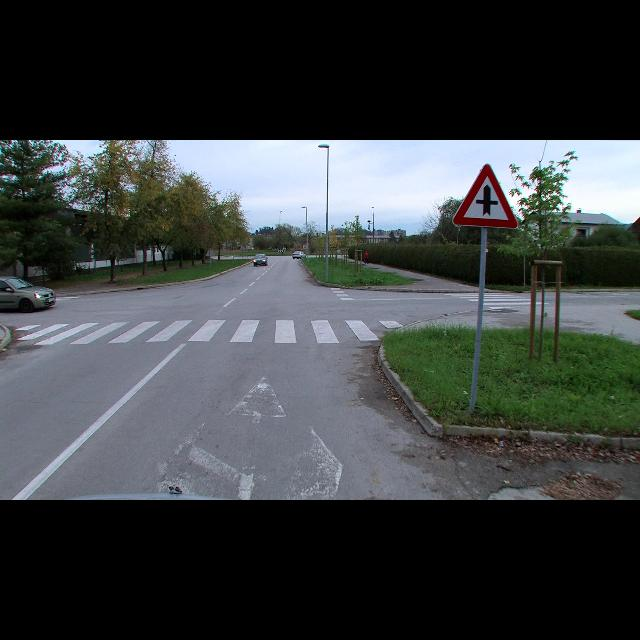Triangle: (454, 162, 518, 230)
